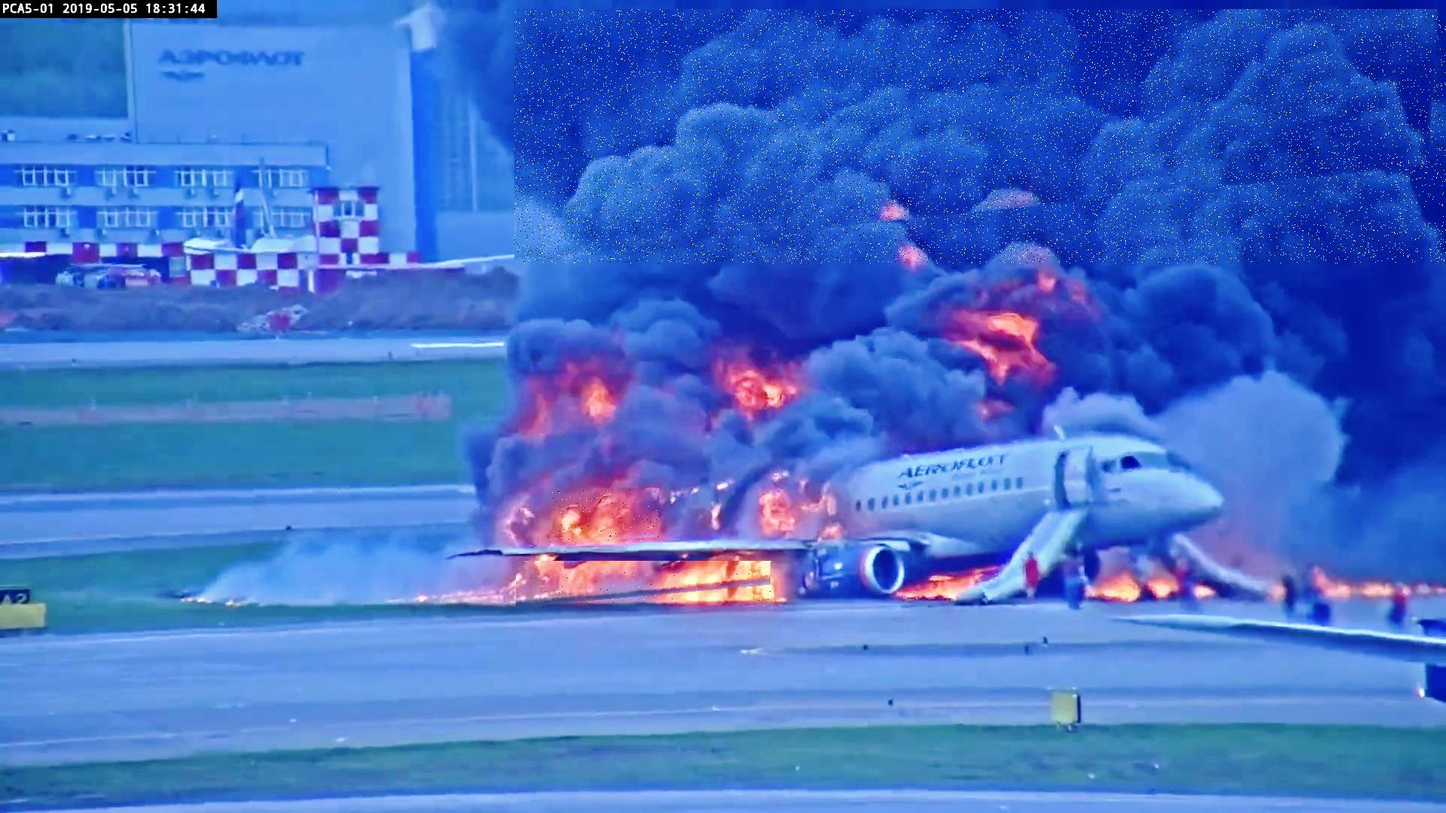fire: (516, 561, 773, 610), (550, 488, 661, 544)
smoke: (514, 10, 1446, 264)
